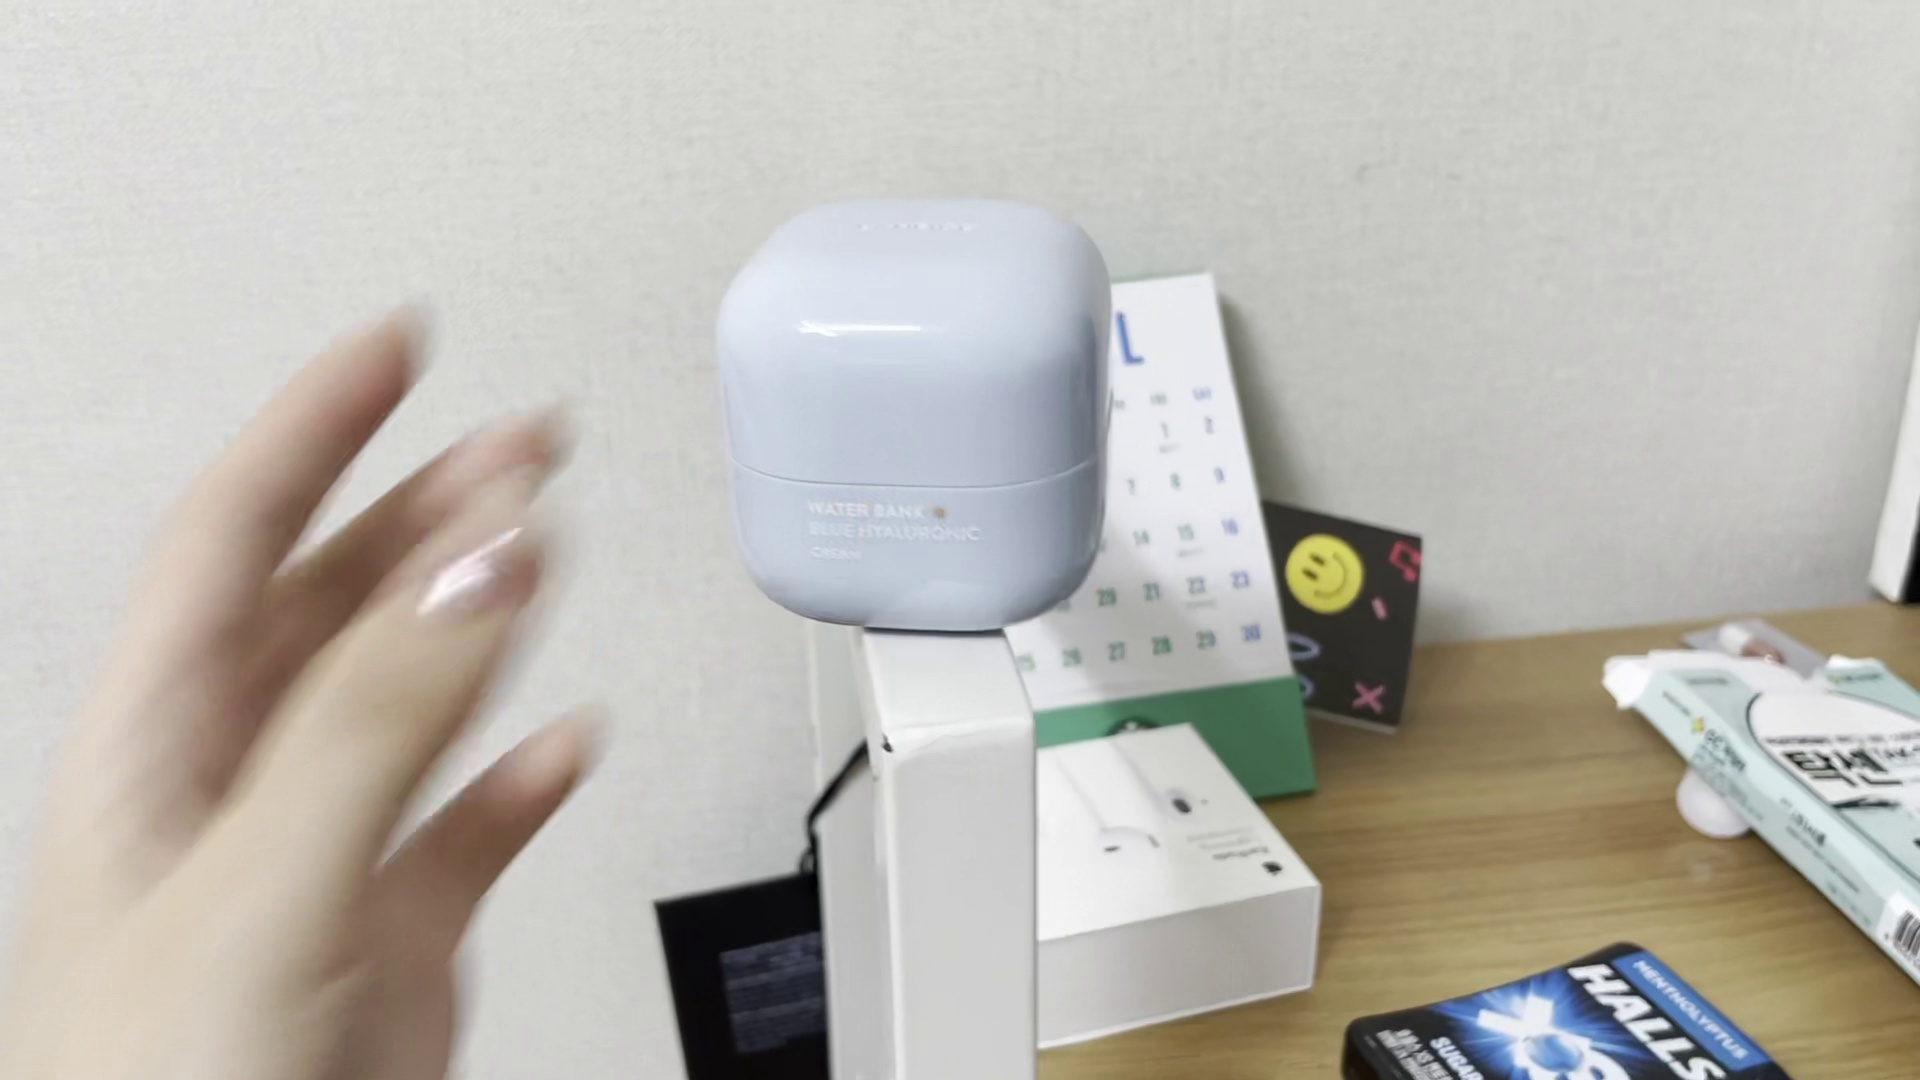cream: (717, 199, 1105, 625)
